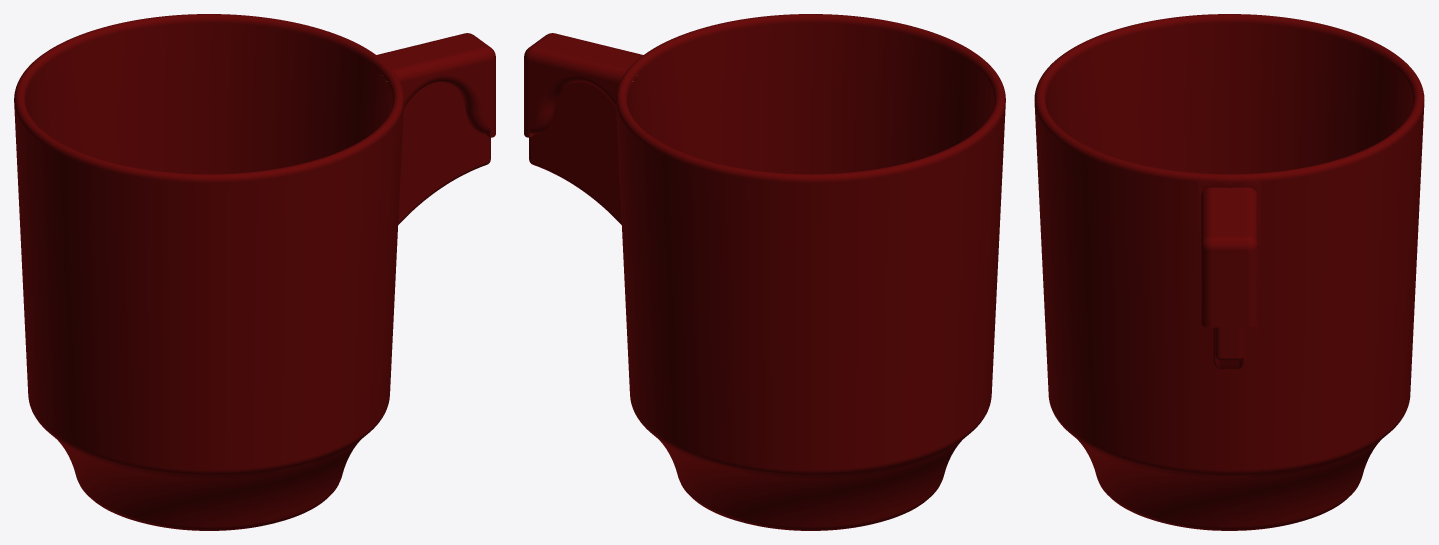
The model's file is dianella.glb.
The picture shows the model from 3 angles, left to right: view 1: azimuth 30°, elevation 25°; view 2: azimuth 150°, elevation 25°; view 3: azimuth 270°, elevation 25°; orthographic projection.
Bounding box in the file's own units: 0.0904 × 0.0743 × 0.0685.
